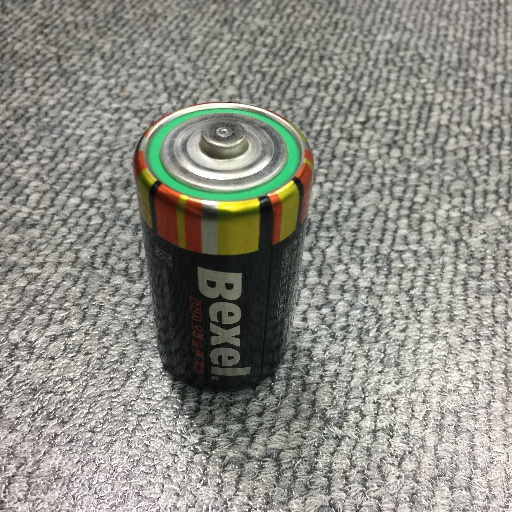Battery_0: (124, 93, 320, 402)
